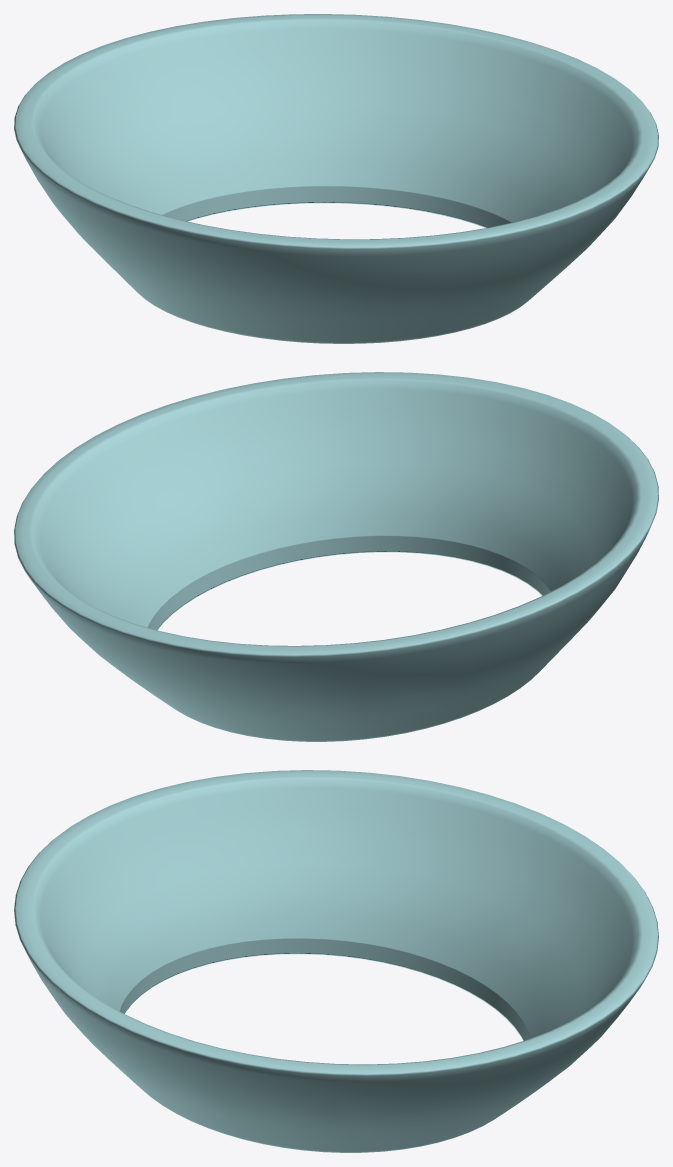
3 renders of one model, top to bottom at view 1: azimuth 30°, elevation 25°; view 2: azimuth 150°, elevation 25°; view 3: azimuth 270°, elevation 25°, orthographic.
Parts seen in each view (by area): view 1: 右侧眼球前段; view 2: 右侧眼球前段; view 3: 右侧眼球前段.
Part boxes in pixels (x1,y1,x2,y2): 右侧眼球前段: (14,14,658,343); 右侧眼球前段: (14,372,658,741); 右侧眼球前段: (14,770,658,1152).
Size of the model in its own units: 0.0325 by 0.00968 by 0.0325.
